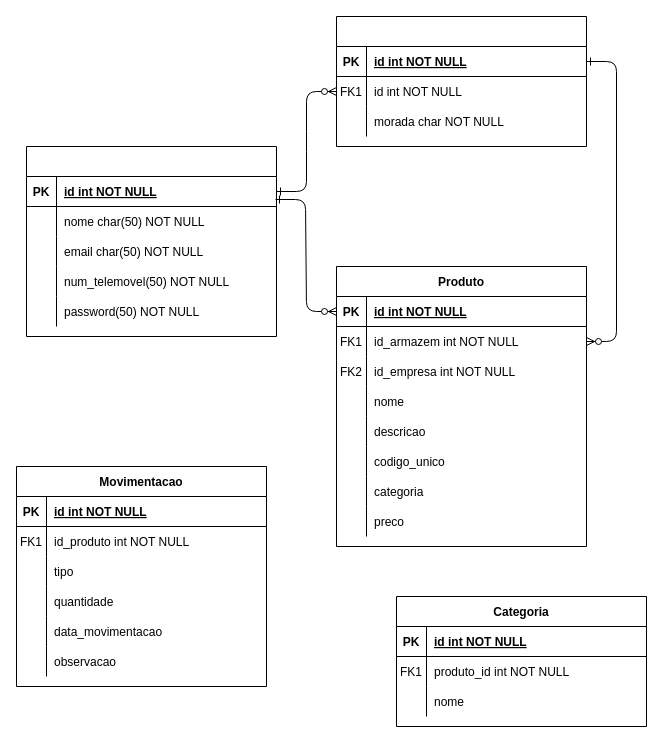
Some shapes in this 663 by 743 pixel diagram are drawn without their labels. Here are the shapes that lost their labels. From the top down, the box of each, then its label:
(336, 16, 586, 146): Armazem
(26, 146, 276, 336): Empresa
